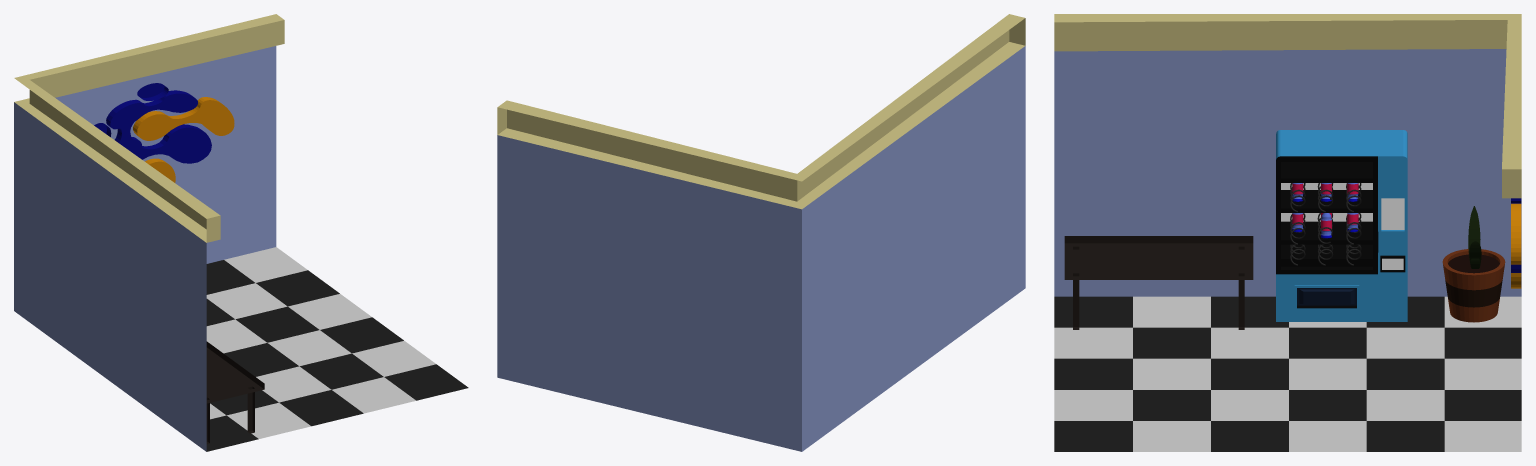
Rendered from AnimatedObject0019.obj.
3 renders of one model, left to right at view 1: azimuth 30°, elevation 25°; view 2: azimuth 150°, elevation 25°; view 3: azimuth 270°, elevation 25°, orthographic. The views are drawn at different scales.
Visible parts, largest first — view 1: ruangan_Cube.003, meja_Cube.004, logo_Circle.005, logo.001_Circle.001, logo.005_Circle.002; view 2: ruangan_Cube.003; view 3: ruangan_Cube.003, vending_machine_Cube.001, meja_Cube.004, pot_bunga_Cylinder, per_second\_Spiral.010, Plane.007, logo_Circle.005.
Boxes of the visible parts, x1,y1,x2,y2 form: ruangan_Cube.003: (14,14,468,451); meja_Cube.004: (206,341,264,444); logo_Circle.005: (133,97,234,140); logo.001_Circle.001: (115,124,211,163); logo.005_Circle.002: (106,90,197,132); ruangan_Cube.003: (497,14,1025,451); ruangan_Cube.003: (1054,14,1521,451); vending_machine_Cube.001: (1276,130,1407,321); meja_Cube.004: (1064,236,1253,329); pot_bunga_Cylinder: (1442,249,1505,322); per_second\_Spiral.010: (1290,183,1361,265); Plane.007: (1468,206,1481,268); logo_Circle.005: (1511,203,1521,264).
Size of the model in its own units: 11.73 by 9.95 by 14.9.
